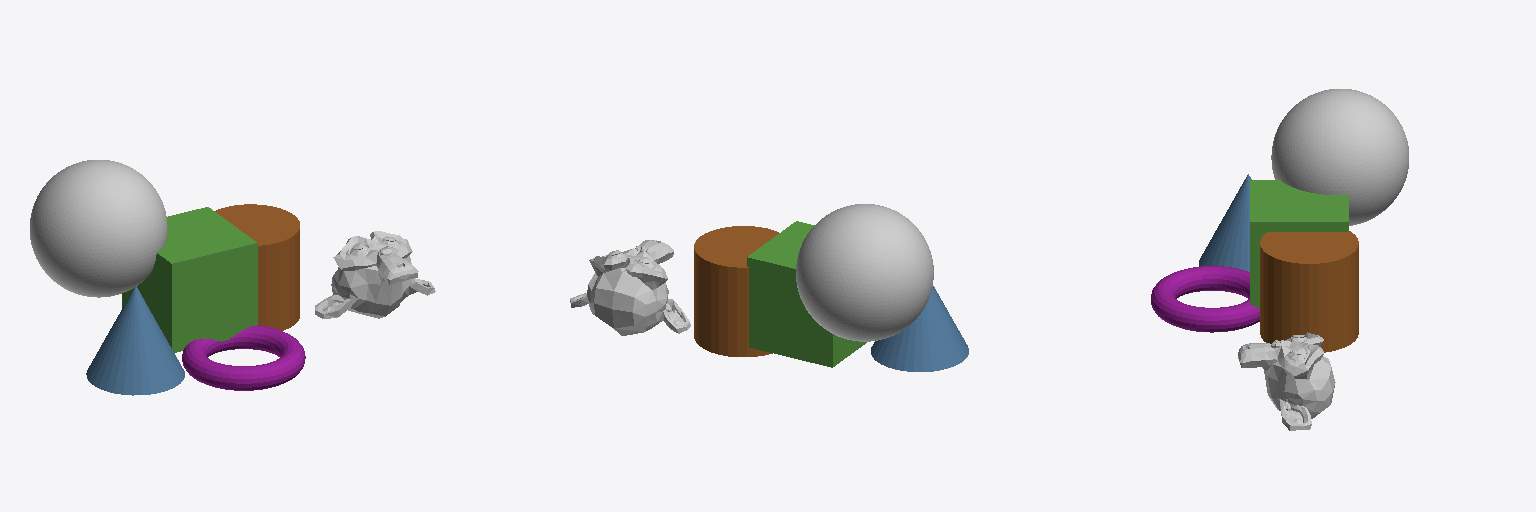
3 renders of one model, left to right at view 1: azimuth 30°, elevation 25°; view 2: azimuth 150°, elevation 25°; view 3: azimuth 270°, elevation 25°, orthographic.
Parts seen in each view (by area): view 1: Sphere_Sphere.001, Cube_Cube_Material, Suzanne_Suzanne, Cone_Cone_Material.003, Cylinder_Cylinder_Material.001, Torus_Torus_Material.002; view 2: Sphere_Sphere.001, Cube_Cube_Material, Cylinder_Cylinder_Material.001, Suzanne_Suzanne, Cone_Cone_Material.003; view 3: Sphere_Sphere.001, Cylinder_Cylinder_Material.001, Suzanne_Suzanne, Cube_Cube_Material, Torus_Torus_Material.002, Cone_Cone_Material.003.
Part boxes in pixels (x1,y1,x2,y2): Sphere_Sphere.001: (30, 160, 167, 297); Cube_Cube_Material: (122, 207, 257, 352); Suzanne_Suzanne: (315, 231, 435, 318); Cone_Cone_Material.003: (86, 285, 184, 395); Cylinder_Cylinder_Material.001: (215, 204, 299, 330); Torus_Torus_Material.002: (182, 325, 305, 390); Sphere_Sphere.001: (796, 204, 933, 341); Cube_Cube_Material: (747, 221, 866, 367); Cylinder_Cylinder_Material.001: (694, 226, 778, 356); Suzanne_Suzanne: (570, 240, 690, 335); Cone_Cone_Material.003: (871, 286, 968, 371); Sphere_Sphere.001: (1271, 89, 1408, 225); Cylinder_Cylinder_Material.001: (1260, 231, 1358, 352); Suzanne_Suzanne: (1238, 332, 1335, 430); Cube_Cube_Material: (1250, 180, 1348, 309); Torus_Torus_Material.002: (1151, 266, 1259, 332); Cone_Cone_Material.003: (1199, 174, 1251, 271).
Bounding box in the file's own units: 8.71 × 4.41 × 5.23.